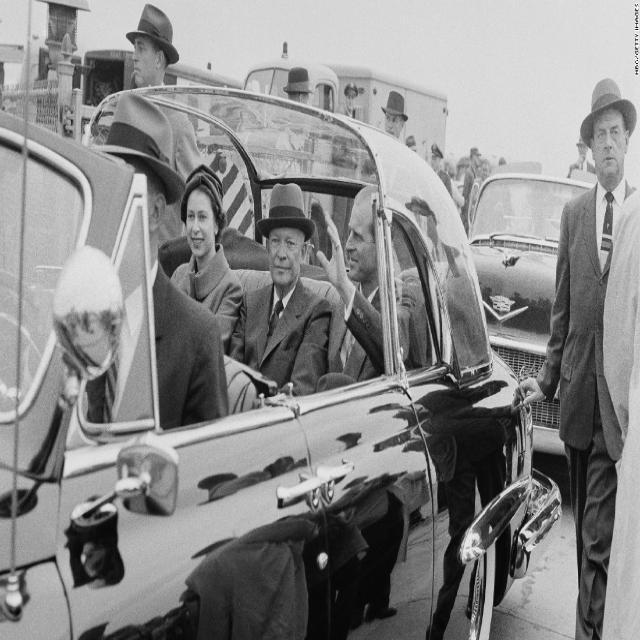body: (516, 71, 640, 639), (191, 383, 403, 639), (83, 87, 232, 444), (403, 195, 509, 638), (227, 182, 332, 397), (314, 180, 417, 397), (593, 167, 639, 639), (123, 4, 206, 251), (167, 161, 245, 358), (72, 546, 192, 639), (270, 65, 315, 182), (452, 146, 509, 196), (379, 88, 408, 140), (429, 140, 454, 200), (566, 131, 596, 179), (343, 79, 359, 118), (403, 129, 418, 157)
